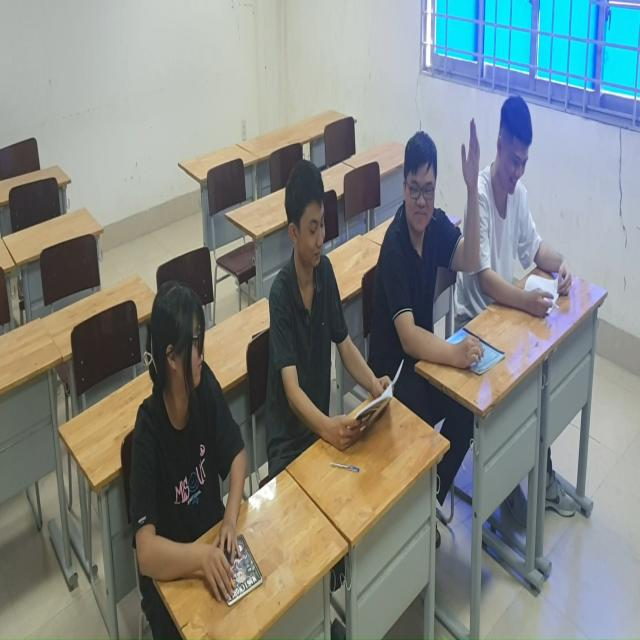raise_hand: (376, 91, 509, 377)
read: (110, 285, 270, 634), (252, 162, 397, 483), (444, 104, 575, 348)
